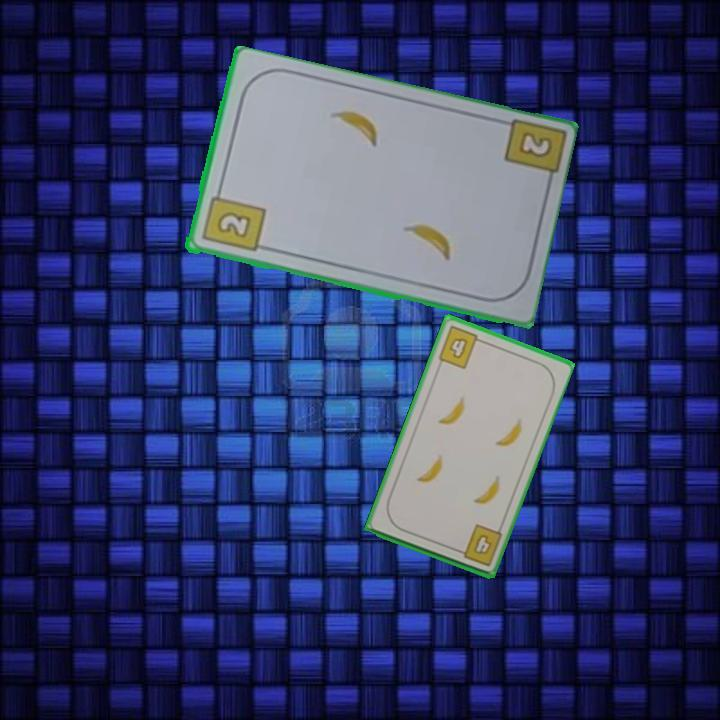2b: (198, 184, 267, 255), (518, 131, 552, 159)
4b: (434, 322, 487, 372), (452, 521, 505, 569)
